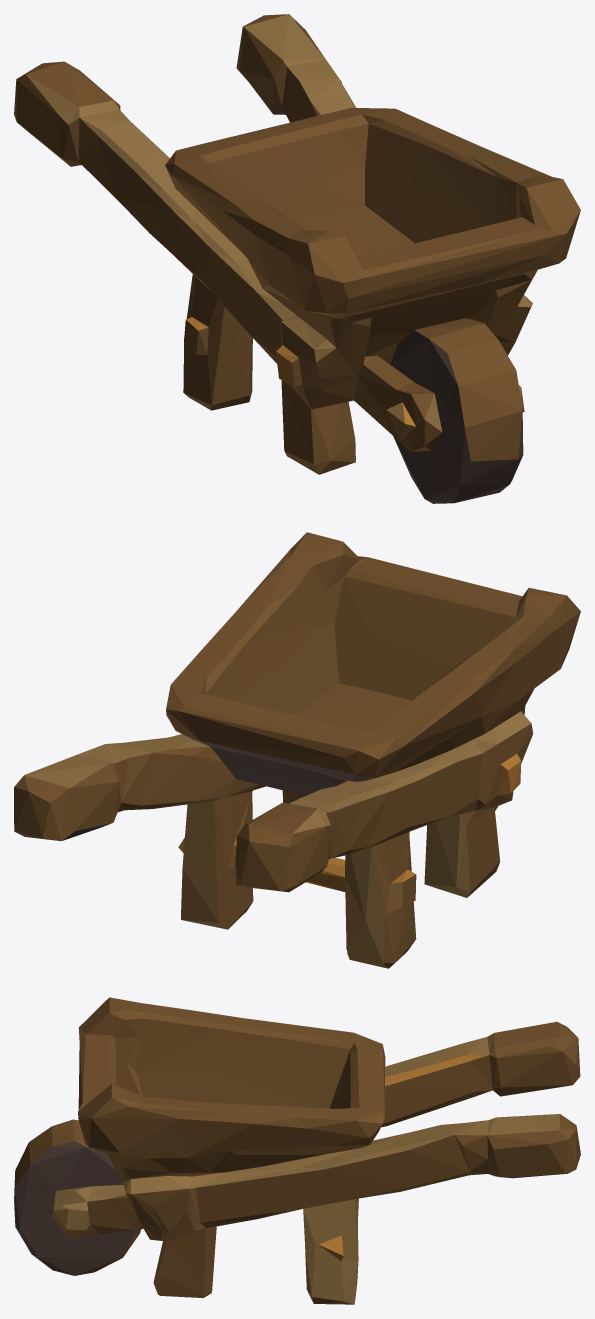
The model's file is prop_wheelbarrow.glb.
The picture shows the model from 3 angles, top to bottom: view 1: azimuth 30°, elevation 25°; view 2: azimuth 150°, elevation 25°; view 3: azimuth 270°, elevation 25°; orthographic projection. The views are drawn at different scales.
Parts seen in each view (by area): view 1: PropWheelbarrowBody; view 2: PropWheelbarrowBody; view 3: PropWheelbarrowBody.
Boxes of the visible parts, left/top/right/bottom form: PropWheelbarrowBody: left=14, top=14, right=580, bottom=503; PropWheelbarrowBody: left=14, top=532, right=580, bottom=968; PropWheelbarrowBody: left=14, top=997, right=580, bottom=1304.
Bounding box in the file's own units: 0.4617 × 0.4252 × 1.
